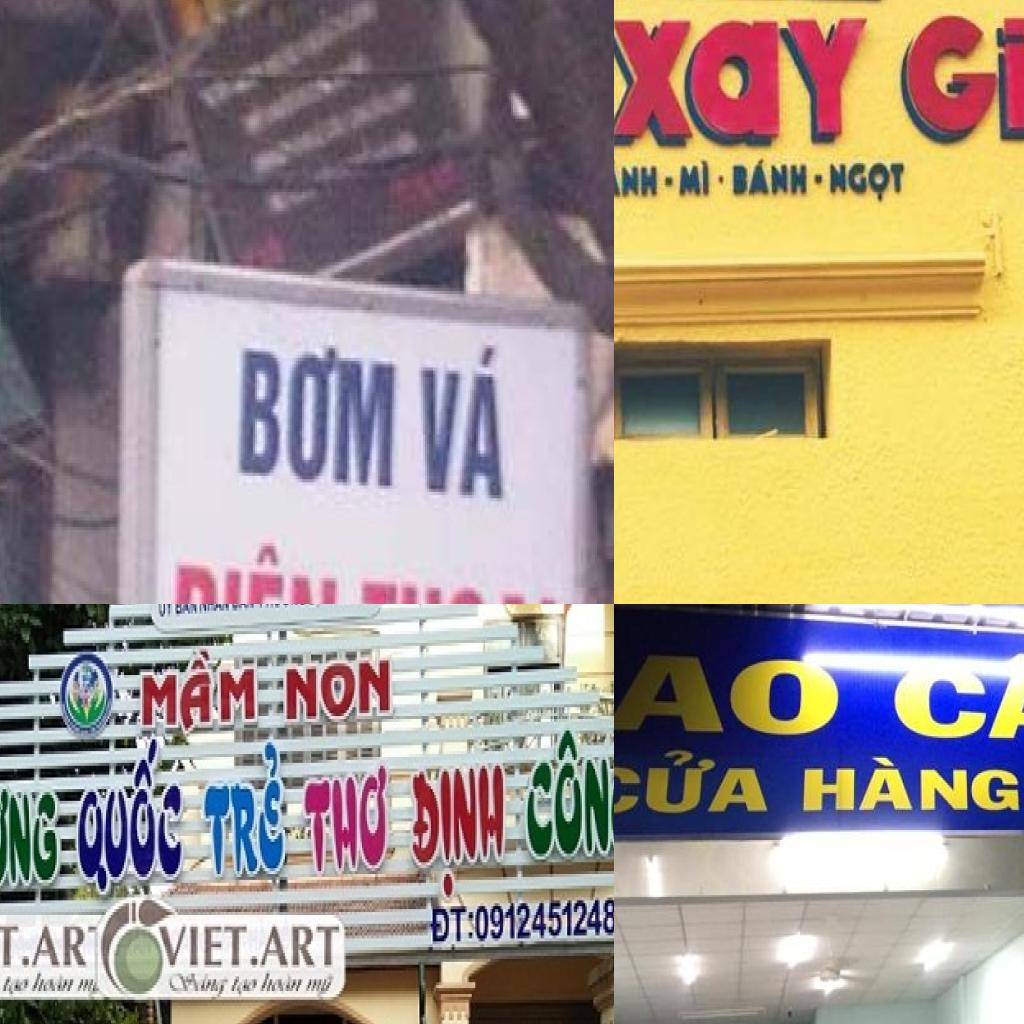text: (614, 6, 874, 153), (614, 632, 841, 742), (239, 339, 398, 495), (888, 0, 1024, 154), (74, 722, 186, 906), (793, 753, 1024, 821), (408, 751, 511, 903), (417, 338, 509, 504), (196, 736, 293, 886), (524, 716, 614, 871), (893, 642, 1024, 747), (614, 742, 778, 823), (139, 643, 262, 739), (300, 757, 393, 883), (169, 536, 339, 604), (283, 652, 398, 728), (472, 888, 614, 947), (0, 783, 63, 897), (729, 144, 813, 202), (157, 924, 252, 973), (259, 924, 342, 970), (30, 924, 93, 970), (614, 149, 660, 207), (426, 900, 479, 950), (675, 150, 717, 208), (162, 970, 234, 1002), (258, 970, 308, 997), (29, 970, 78, 997), (305, 970, 339, 1002), (0, 920, 20, 970), (229, 970, 262, 1000), (0, 973, 32, 999), (75, 976, 98, 997), (198, 604, 231, 616), (173, 604, 197, 619), (153, 604, 176, 619), (230, 604, 255, 616), (307, 604, 337, 610)
